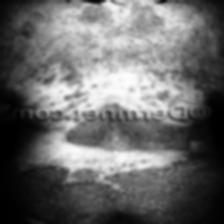Non-Cancerous Skin Condition: (44, 161, 184, 224), (64, 122, 206, 152)
